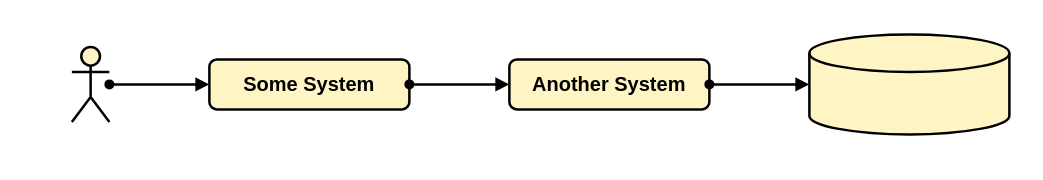
Image size: 1043x180. Some labels were removed from this diagram. Each missing label, with the centre of its shape:
"Some User" goes at point (90, 83).
"The one and only Database" goes at point (909, 83).
